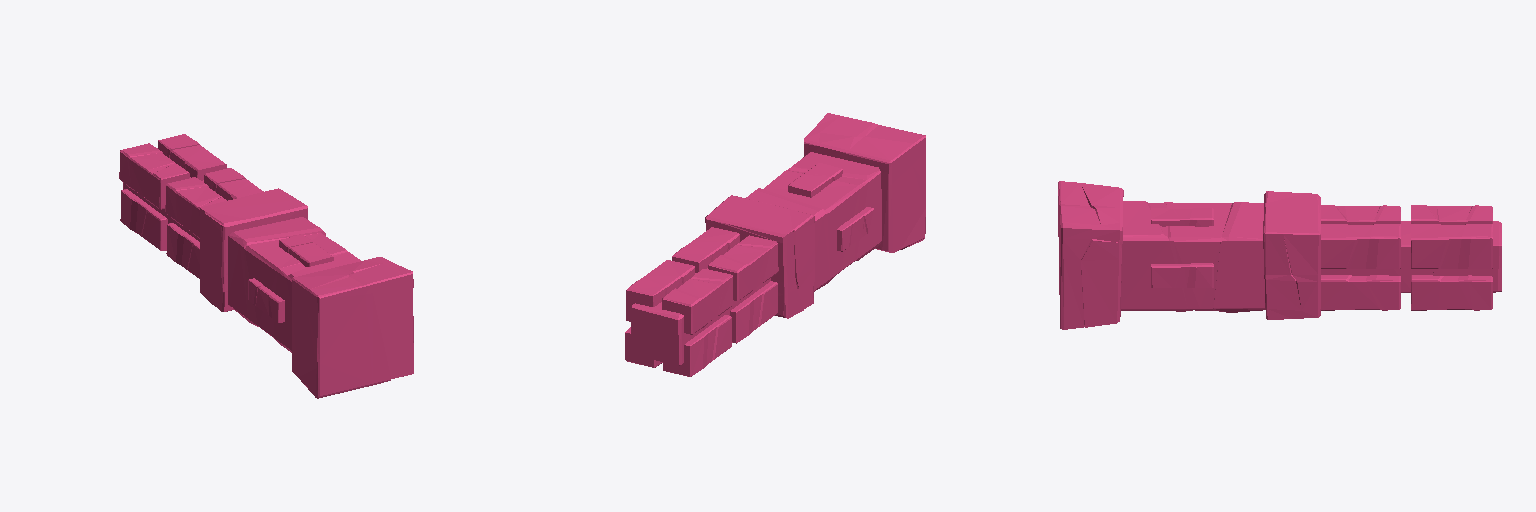
Rendered from Pillar02.obj.
3 views of the same model, side by side, from view 1: azimuth 30°, elevation 25°; view 2: azimuth 150°, elevation 25°; view 3: azimuth 270°, elevation 25° (orthographic).
Parts seen in each view (by area): view 1: Object002, Column02; view 2: Column02, Object002; view 3: Column02, Object002.
Part boxes in pixels (left/top/right/bottom): Object002: left=228, top=217, right=413, bottom=398; Column02: left=119, top=134, right=307, bottom=311; Column02: left=625, top=195, right=814, bottom=376; Object002: left=746, top=113, right=925, bottom=291; Column02: left=1263, top=191, right=1501, bottom=319; Object002: left=1058, top=181, right=1265, bottom=329.
Bounding box in the file's own units: 1.84 × 1.86 × 7.24.